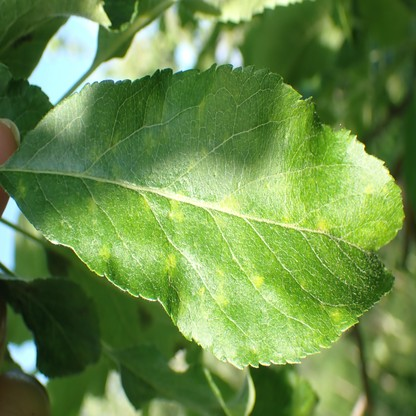scab: (15, 69, 404, 352), (5, 79, 28, 102), (137, 304, 152, 328)
